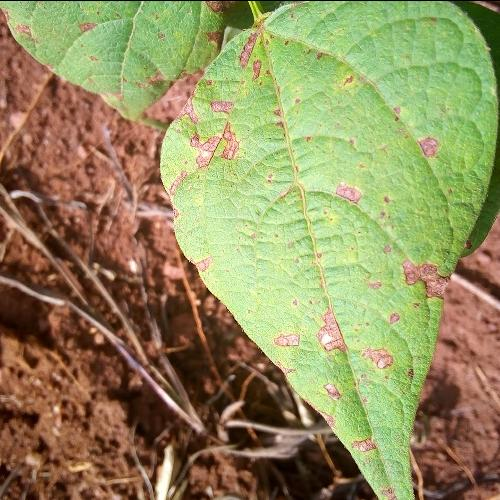hawar: (165, 82, 263, 201), (274, 298, 350, 402), (369, 239, 454, 323), (224, 4, 284, 76), (322, 156, 370, 214), (360, 338, 404, 382), (416, 115, 451, 166), (347, 422, 385, 462), (185, 247, 222, 279)
